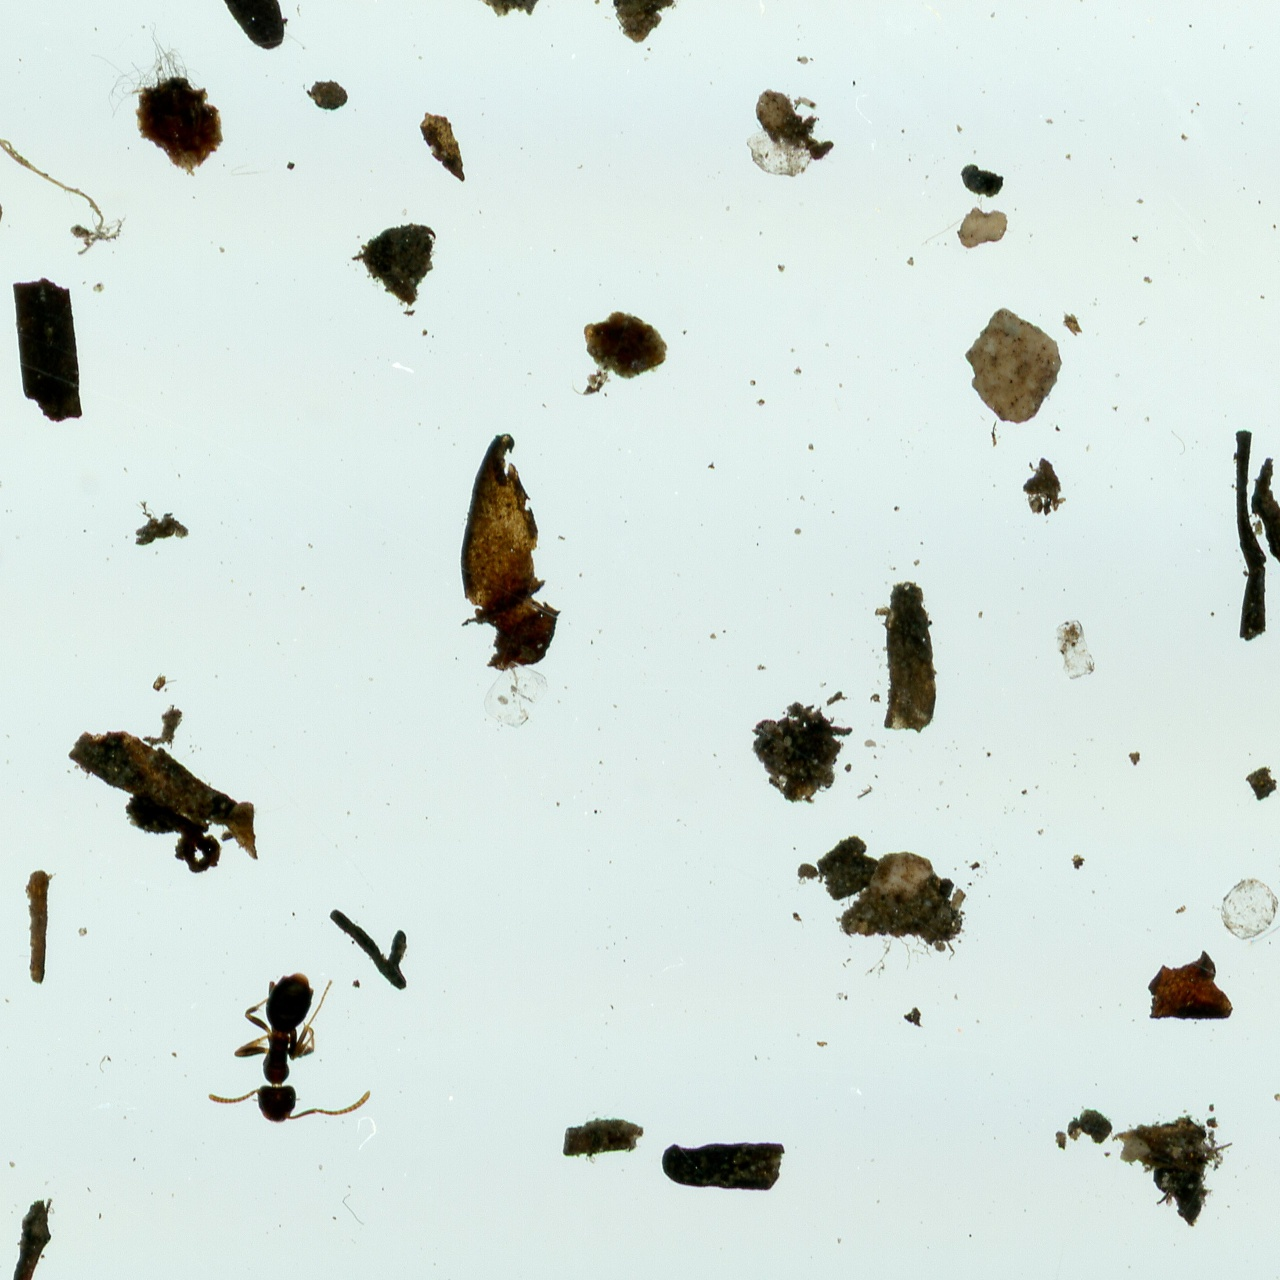arthropod: (207, 968, 379, 1123)
